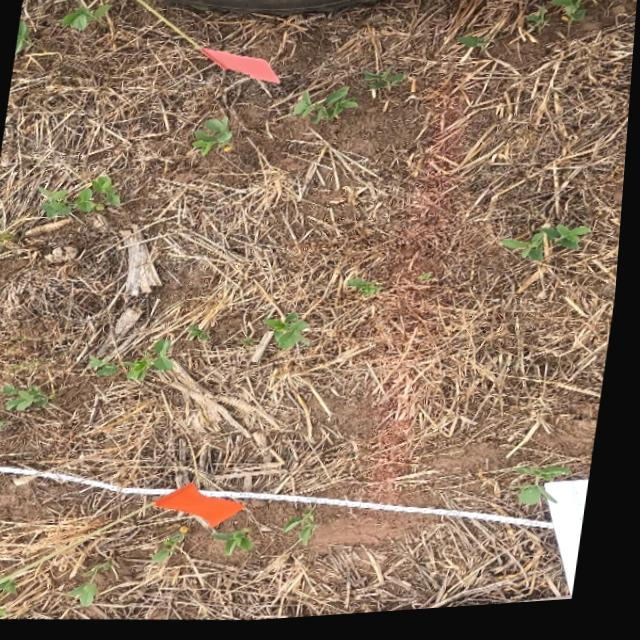soy_plant: (92, 341, 177, 383), (40, 177, 122, 219), (504, 233, 592, 269), (523, 0, 584, 49), (518, 473, 578, 512), (293, 91, 357, 127), (53, 0, 110, 31), (269, 317, 313, 352), (194, 122, 233, 159), (8, 385, 59, 412), (159, 530, 193, 566), (362, 74, 404, 103), (291, 514, 325, 549), (220, 532, 261, 559), (456, 40, 489, 69), (77, 583, 106, 608), (351, 283, 383, 301), (15, 20, 28, 54), (0, 219, 10, 261), (0, 580, 24, 594), (0, 595, 14, 618), (0, 413, 9, 431)
